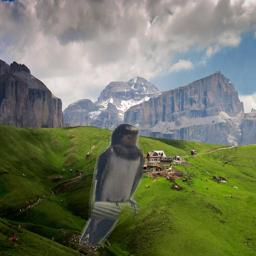Swallow: (79, 123, 144, 247)
